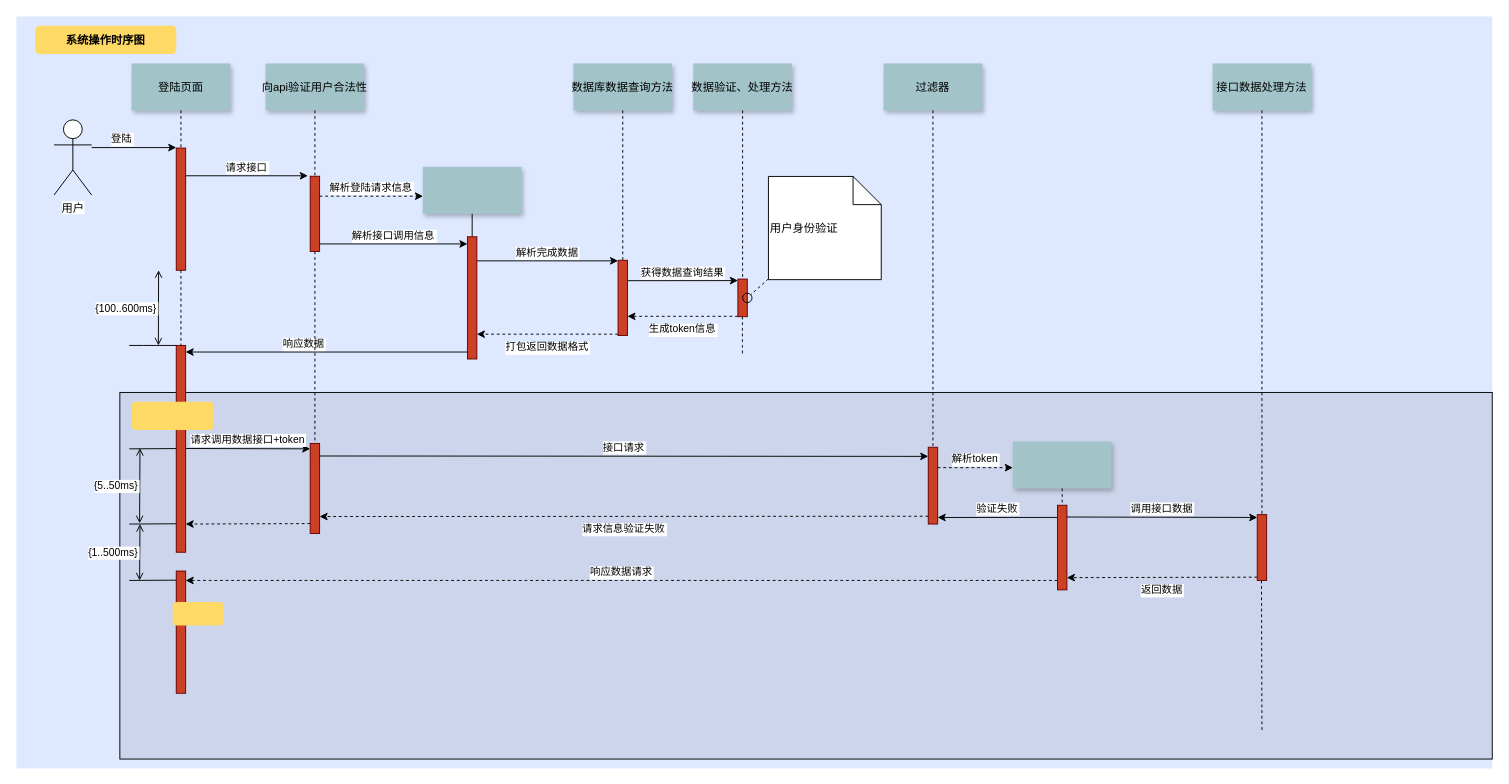
Some shapes in this 1509 by 784 pixel diagram are drawn without their labels. The shapes that lost their labels are listed below. From the top down, each one's centre as x and y in pixels, then its label:
At [473,191]: "调用数据处理对象".
At [172,415]: "接口调用".
At [1063,466]: "用户信息验证".
At [197,613]: "ref".
